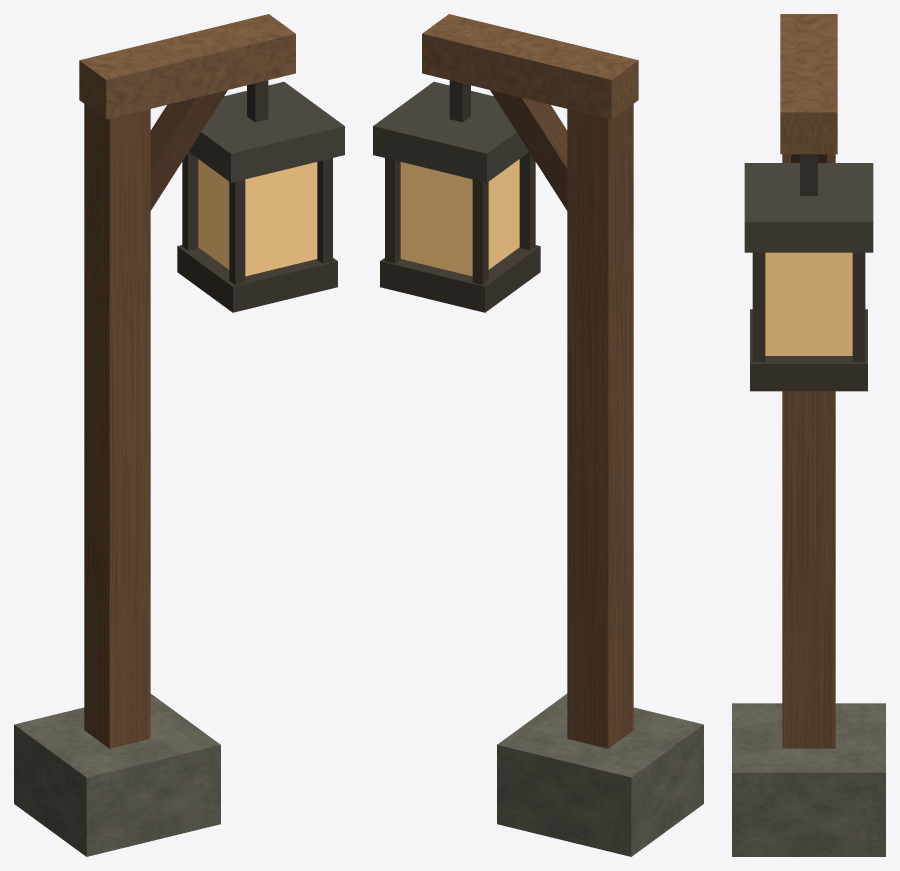
File: lantern.glb
3 views of the same model, side by side, from view 1: azimuth 30°, elevation 25°; view 2: azimuth 150°, elevation 25°; view 3: azimuth 270°, elevation 25° (orthographic). The views are drawn at different scales.
Visible parts, largest first — view 1: lantern; view 2: lantern; view 3: lantern.
Part boxes in pixels (left/top/right/bottom): lantern: left=14, top=14, right=344, bottom=856; lantern: left=373, top=14, right=703, bottom=856; lantern: left=732, top=14, right=885, bottom=856.
Size of the model in its own units: 0.905 by 2.46 by 0.43.
Materials: 4 (2 with a texture image).
